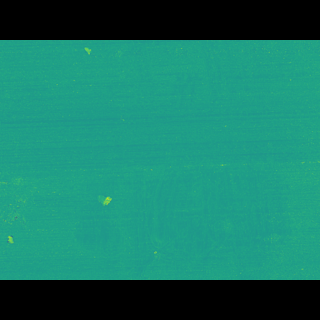Loch: (65, 161, 307, 252)
